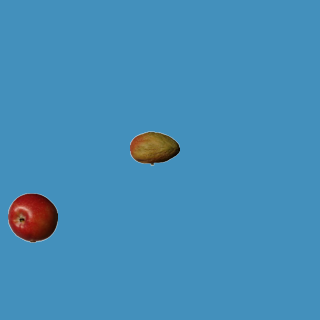Apple Braeburn: (7, 192, 57, 242)
Papaya: (129, 123, 179, 173)
